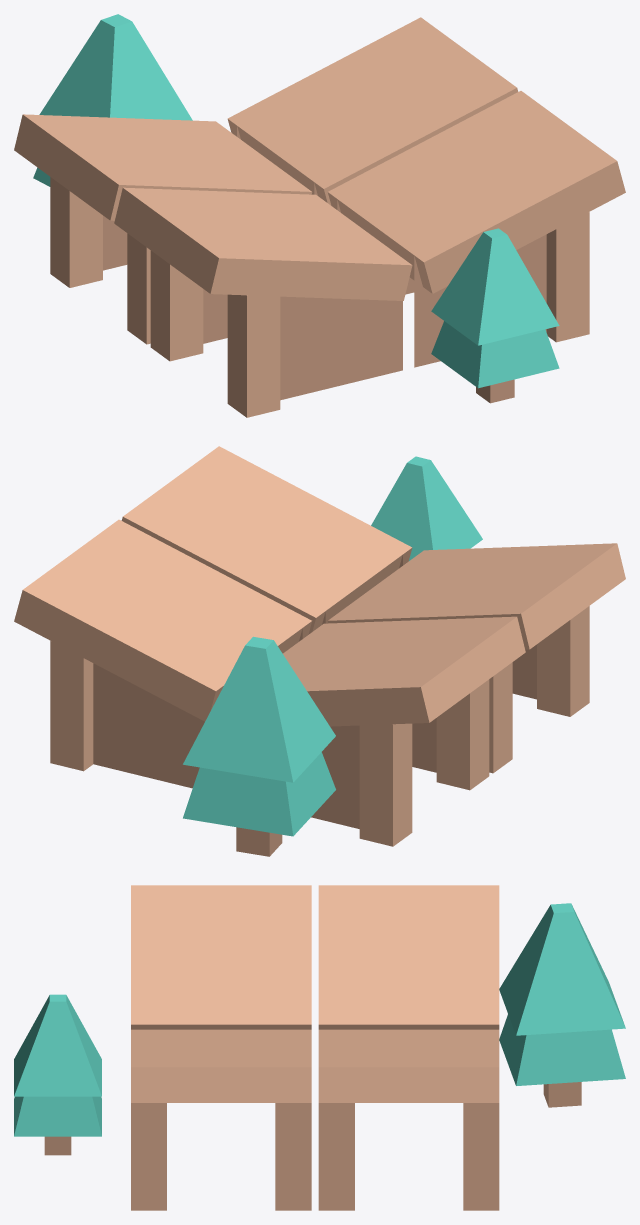
File: Storagelvl3.fbx
3 views of the same model, one above another, from view 1: azimuth 30°, elevation 25°; view 2: azimuth 150°, elevation 25°; view 3: azimuth 270°, elevation 25° (orthographic). The views are drawn at different scales.
Visible parts, largest first — view 1: Storage3, Storage2, Storage4, Storage1, Tree2, Tree1; view 2: Storage1, Storage4, Storage3, Storage2, Tree1, Tree2; view 3: Storage4, Storage3, Storage1, Storage2, Tree1, Tree2.
Boxes of the visible parts, left/top/right/bottom form: Storage3: left=114, top=187, right=412, bottom=417; Storage2: left=328, top=91, right=625, bottom=367; Storage4: left=14, top=114, right=312, bottom=344; Storage1: left=227, top=17, right=518, bottom=205; Tree2: left=431, top=228, right=559, bottom=403; Tree1: left=33, top=14, right=192, bottom=186; Storage1: left=14, top=519, right=311, bottom=788; Storage4: left=283, top=616, right=525, bottom=846; Storage3: left=328, top=543, right=625, bottom=773; Storage2: left=121, top=446, right=412, bottom=634; Tree1: left=183, top=636, right=335, bottom=856; Tree2: left=371, top=456, right=482, bottom=560; Storage4: left=318, top=885, right=499, bottom=1029; Storage3: left=131, top=885, right=311, bottom=1029; Storage1: left=318, top=1029, right=499, bottom=1210; Storage2: left=131, top=1029, right=311, bottom=1210; Tree1: left=499, top=903, right=625, bottom=1107; Tree2: left=14, top=994, right=101, bottom=1155.
Size of the model in its own units: 62.27 by 29.26 by 84.76.
